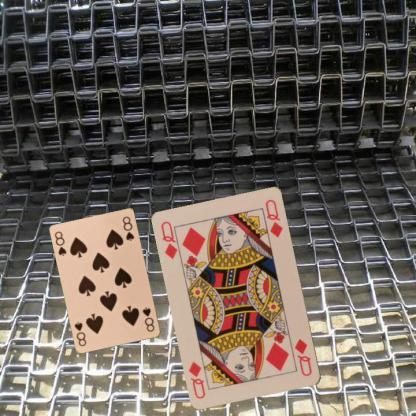8s: (140, 304, 156, 334), (52, 228, 68, 258)
Qd: (158, 218, 184, 262), (292, 336, 314, 378)
